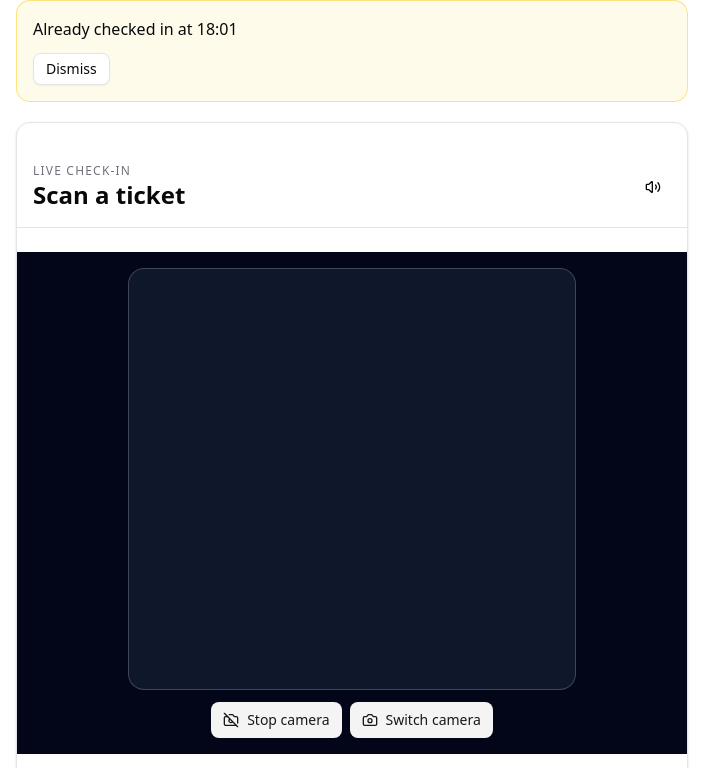
check-in scanner › submit_alreadyCheckedIn_outcomeRemainsUntilDismissed
The image size is (705, 768).
Check: the message shows "Already checked in", box [33,18,238,40]
Click the button "Dismiss". click: (71, 69)
box: [33,53,110,85]
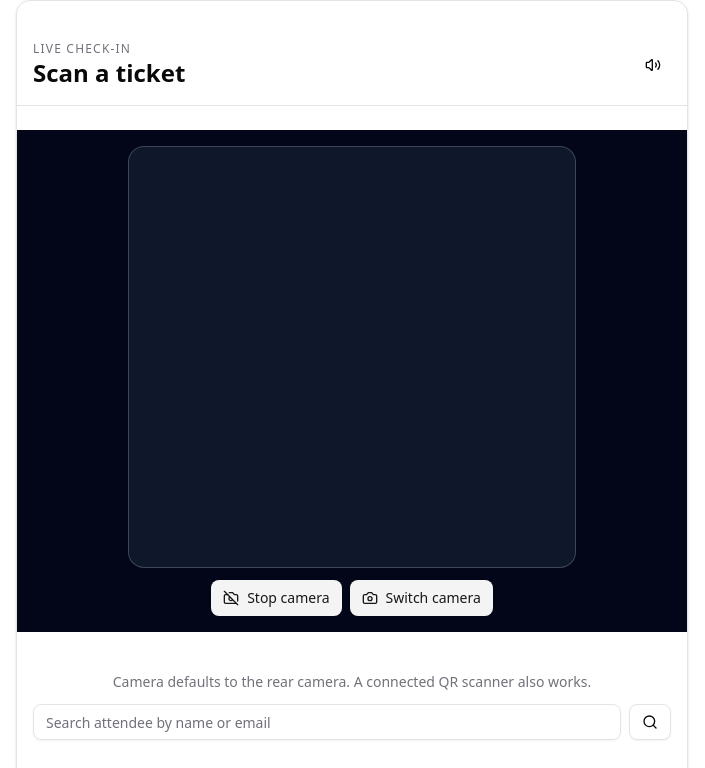
Check: the message "Already checked in at 18:01 Dismiss" is gone
